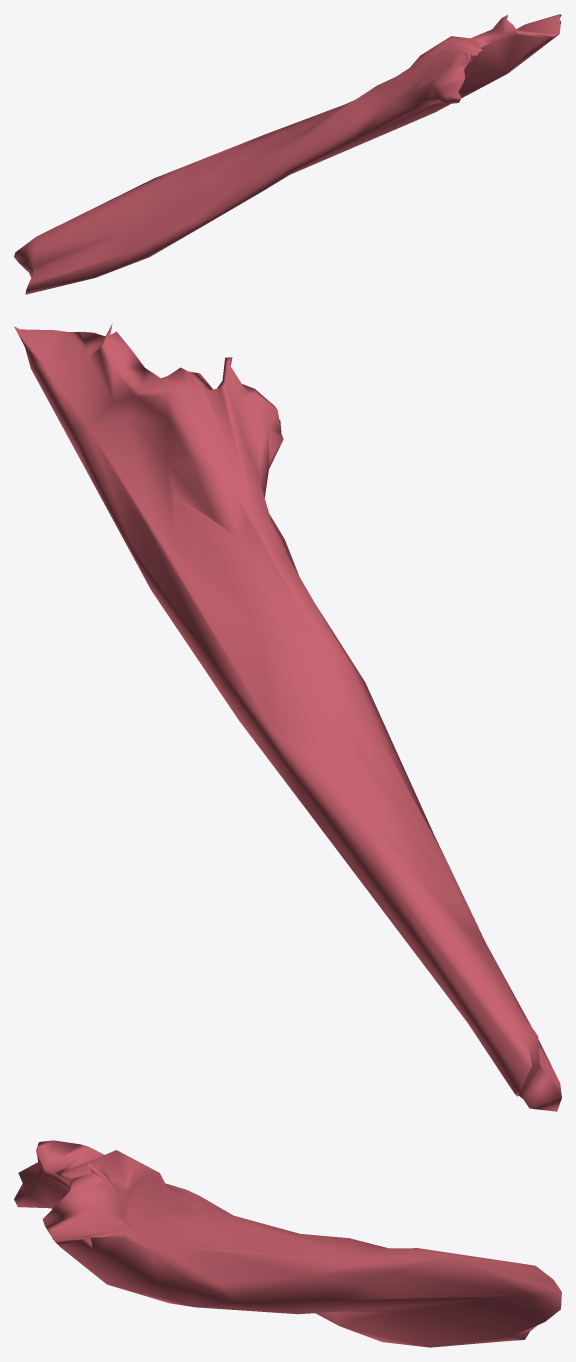
The picture shows the model from 3 angles, top to bottom: view 1: azimuth 30°, elevation 25°; view 2: azimuth 150°, elevation 25°; view 3: azimuth 270°, elevation 25°; orthographic projection. The views are drawn at different scales.
Parts seen in each view (by area): view 1: 右侧拇对掌肌; view 2: 右侧拇对掌肌; view 3: 右侧拇对掌肌.
Part boxes in pixels (x1,y1,x2,y2): 右侧拇对掌肌: (14, 14, 561, 294); 右侧拇对掌肌: (14, 324, 561, 1111); 右侧拇对掌肌: (14, 1140, 561, 1347).
Bounding box in the file's own units: 0.0682 × 0.0422 × 0.0419.
